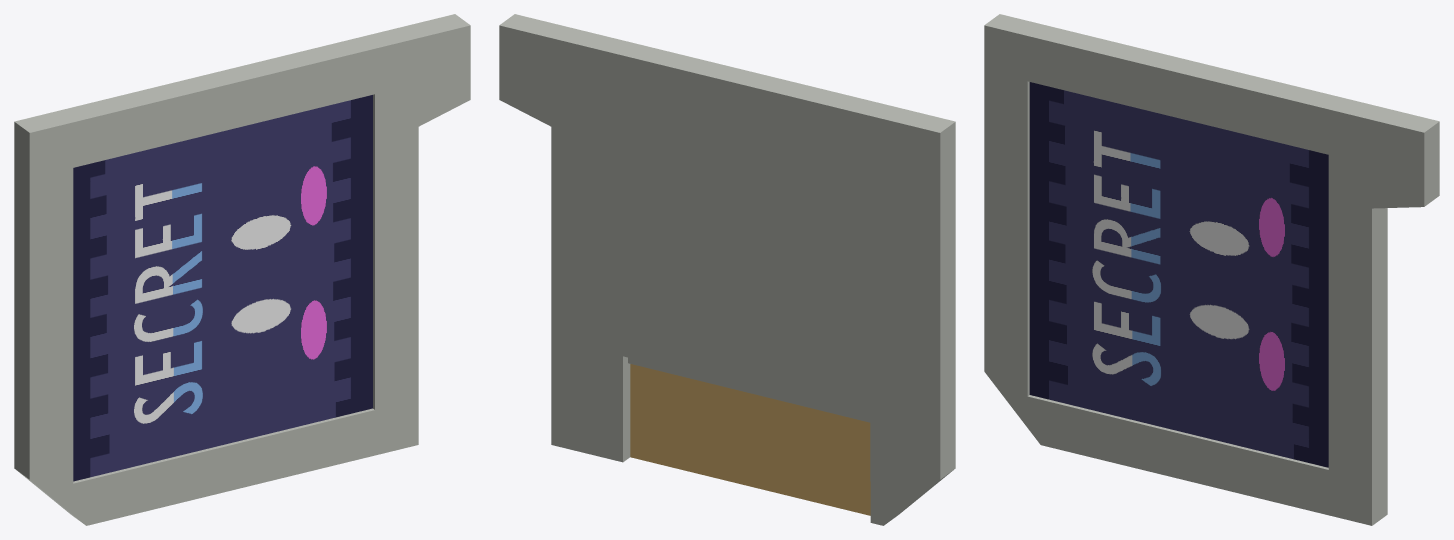
File: soft_rareslime.fbx
3 renders of one model, left to right at view 1: azimuth 30°, elevation 25°; view 2: azimuth 150°, elevation 25°; view 3: azimuth 330°, elevation 25°, orthographic.
Visible parts, largest first — view 1: image, soft; view 2: soft; view 3: image, soft.
Boxes of the visible parts, x1,y1,x2,y2 form: image: [73, 95, 372, 481]; soft: [14, 14, 470, 525]; soft: [499, 14, 955, 525]; image: [1029, 82, 1328, 467]; soft: [984, 14, 1439, 525].
Size of the model in its own units: 160 by 141 by 9.82.
